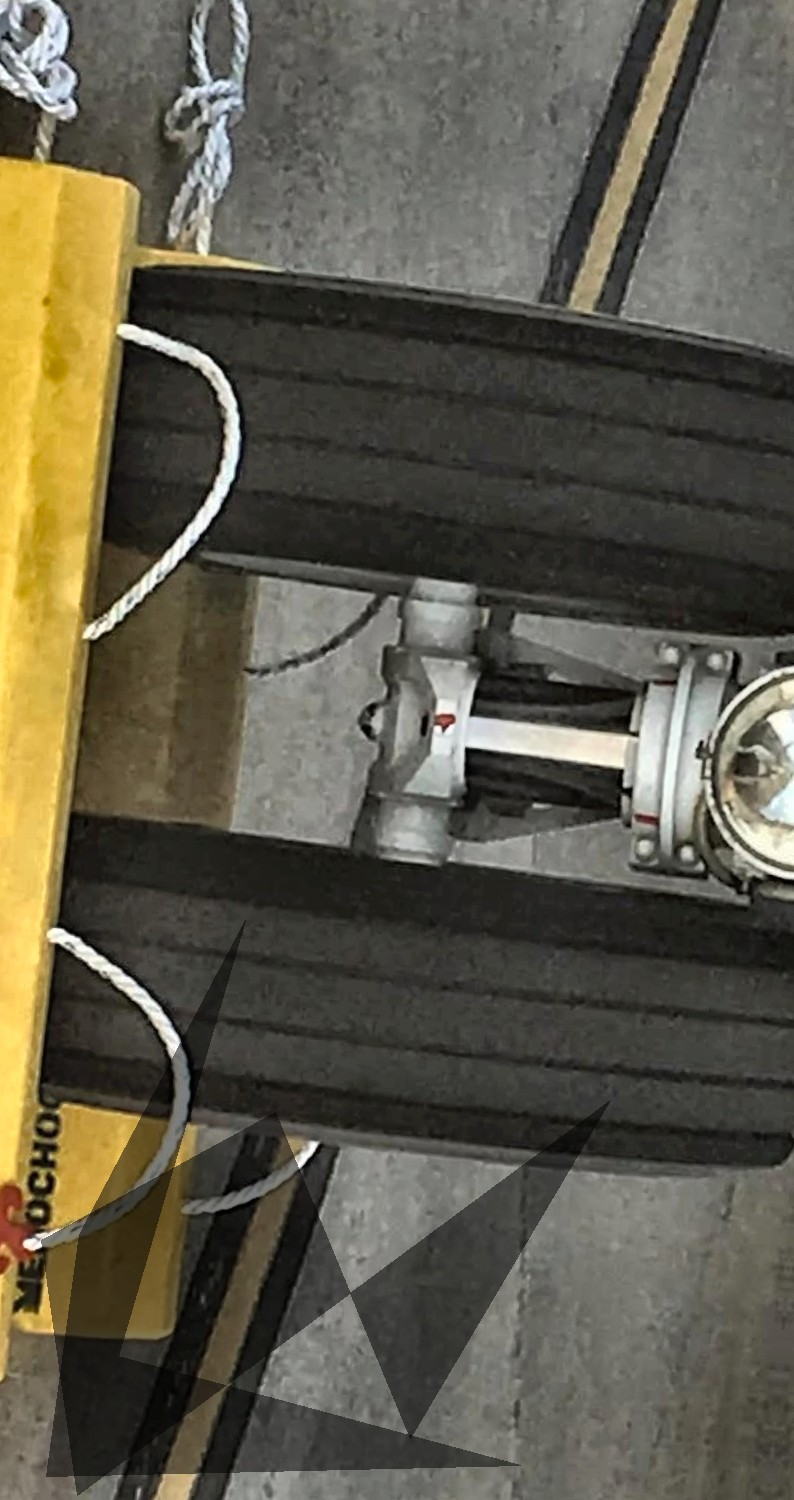chock: (9, 218, 296, 1356), (0, 138, 150, 1410)
wheel: (29, 827, 794, 1194), (97, 263, 794, 649)
